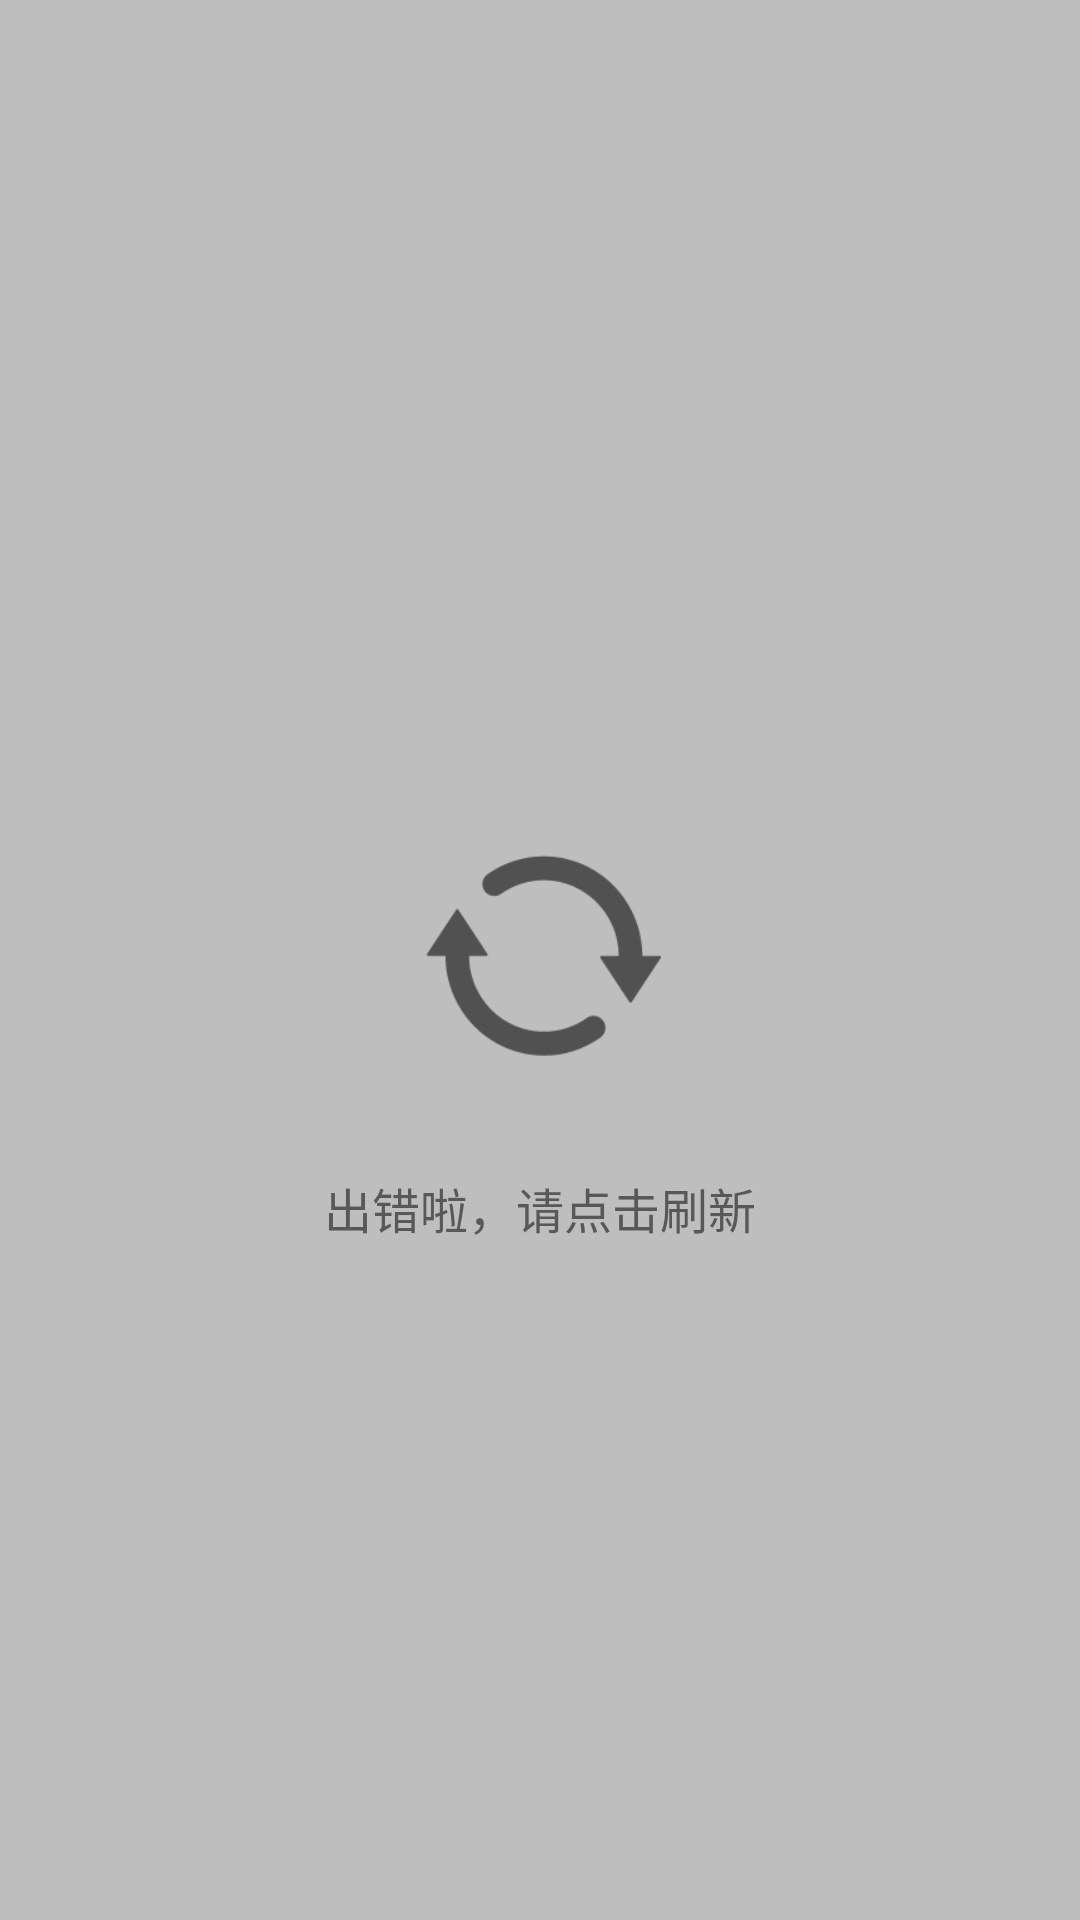

Point at icon controls on the screen. Image size 1080x1920, points as (x=x, y=y).
refresh: (x=543, y=956)
